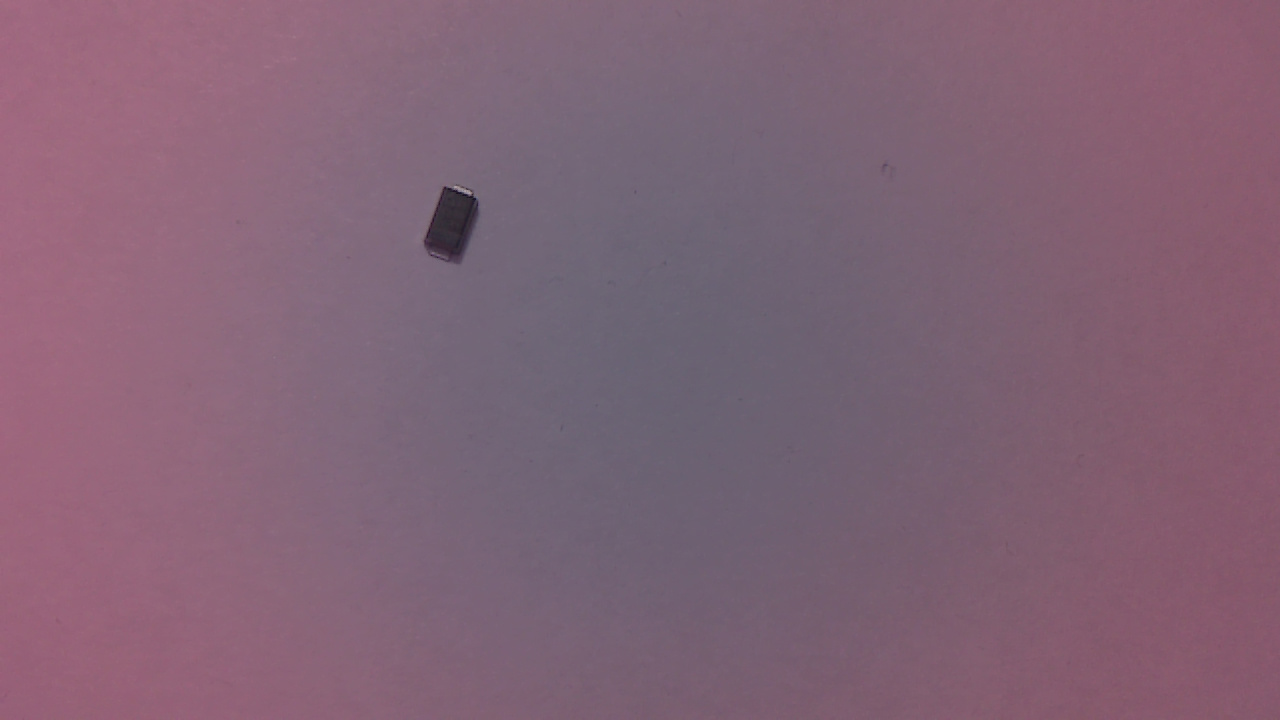Diode: (427, 188, 486, 267)
